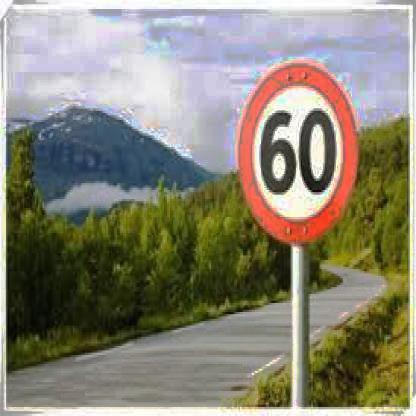Speed Limit -60-: (236, 57, 361, 242)
